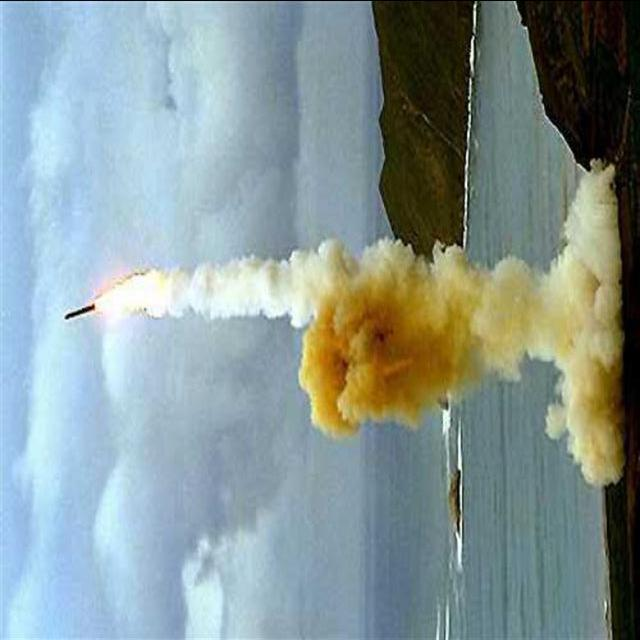missile: (57, 301, 97, 323)
